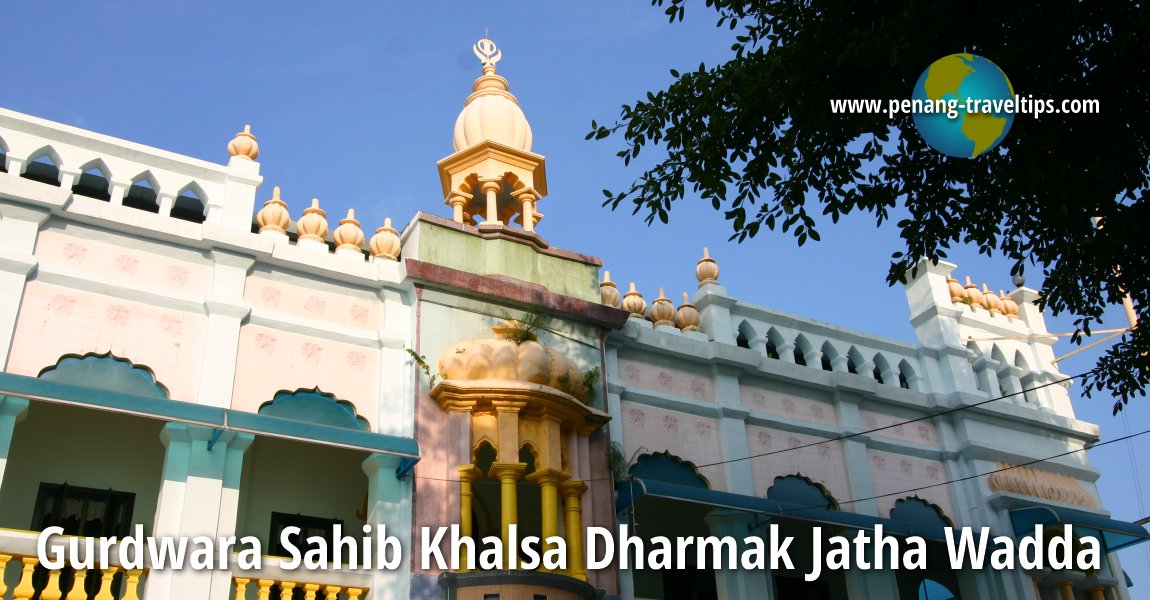Gurdwara: (11, 33, 1102, 526)
